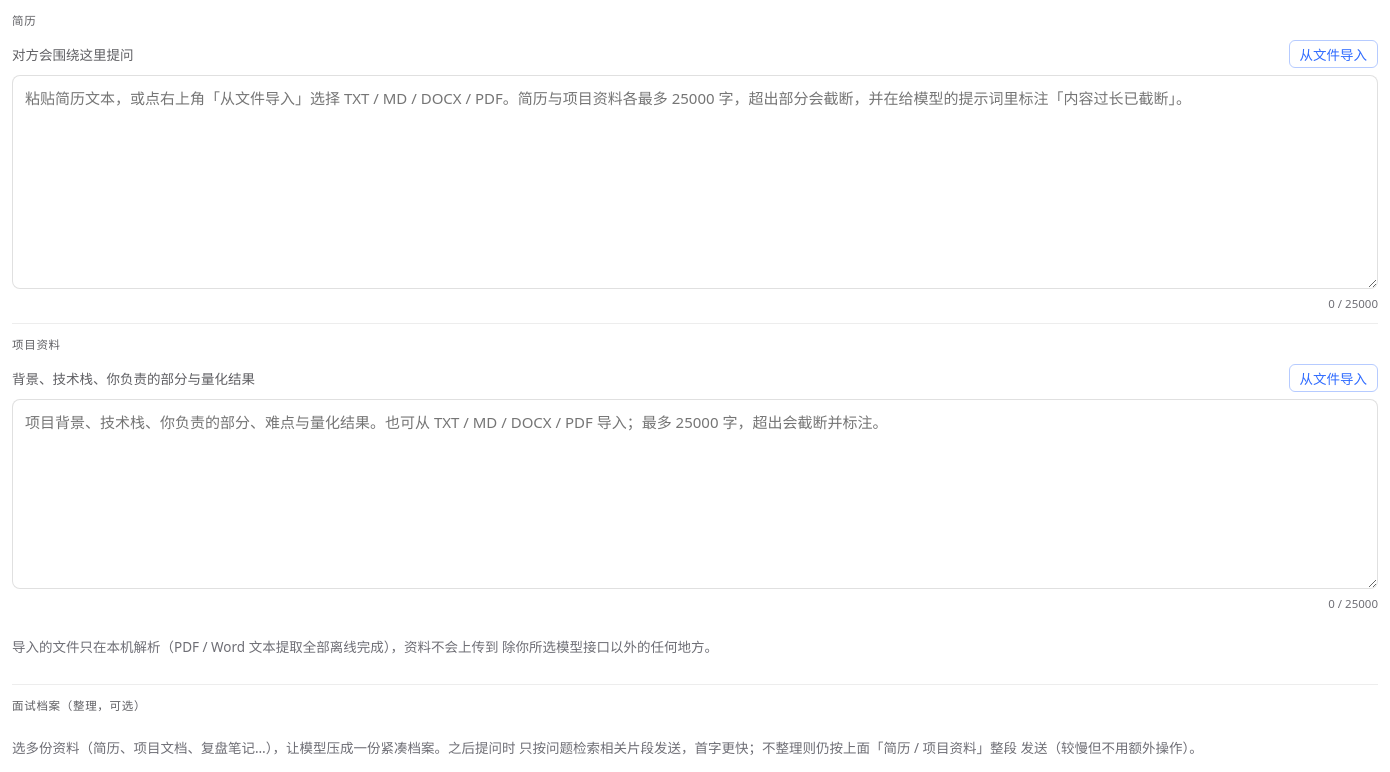
it: ProfileCard —— 从文件导入 › 非 Tauri 环境：点导入直接提示无法打开对话框，不发命令
Click the button "从文件导入" in the row of "对方会围绕这里提问": (1333, 54) x1=1288 y1=40 x2=1378 y2=68
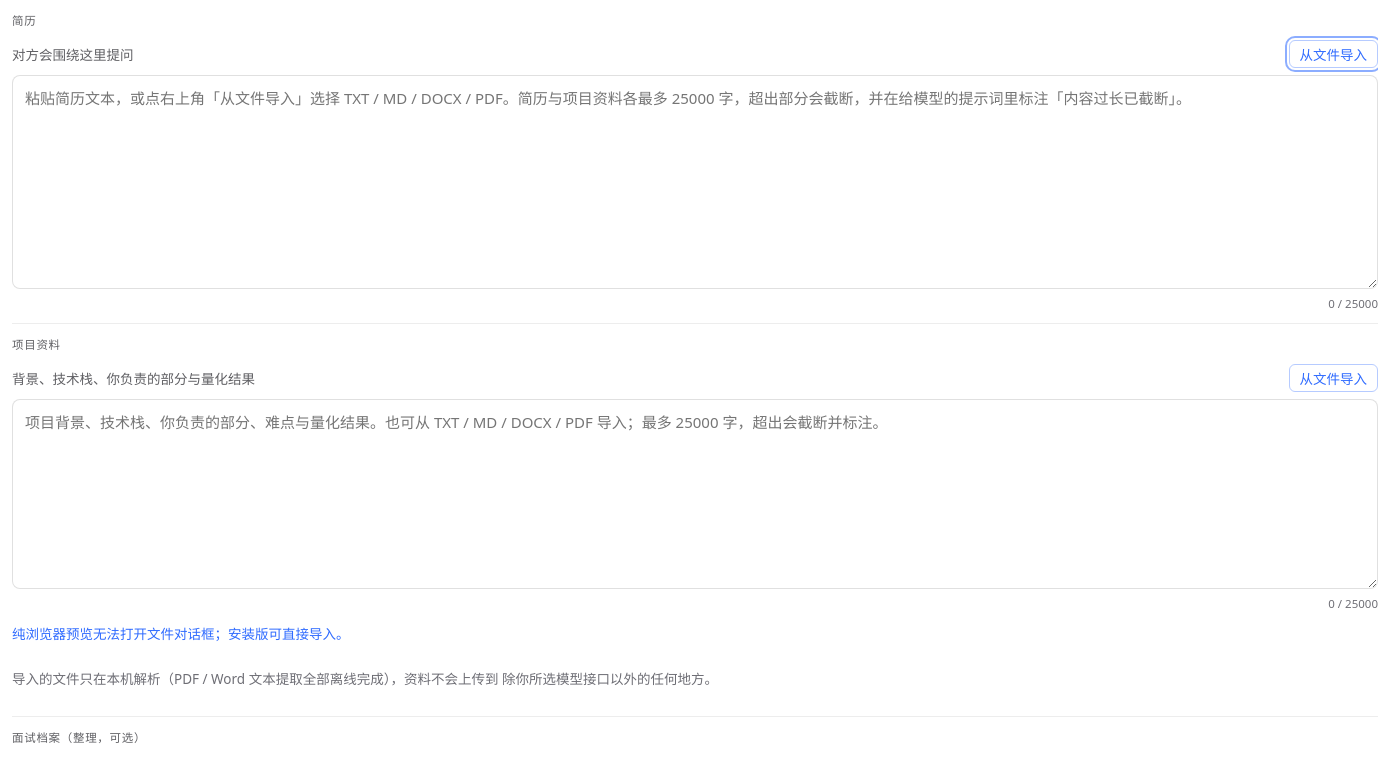
expect the text "纯浏览器预览无法打开文件对话框；安装版可直接导入。" is shown: met, box x1=12 y1=625 x2=350 y2=643
